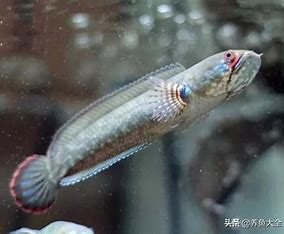Fish: (8, 43, 266, 221)
